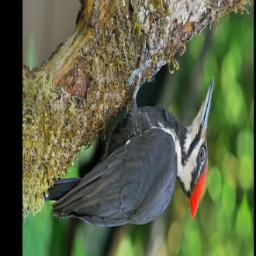Woodpecker: (40, 17, 217, 256)
